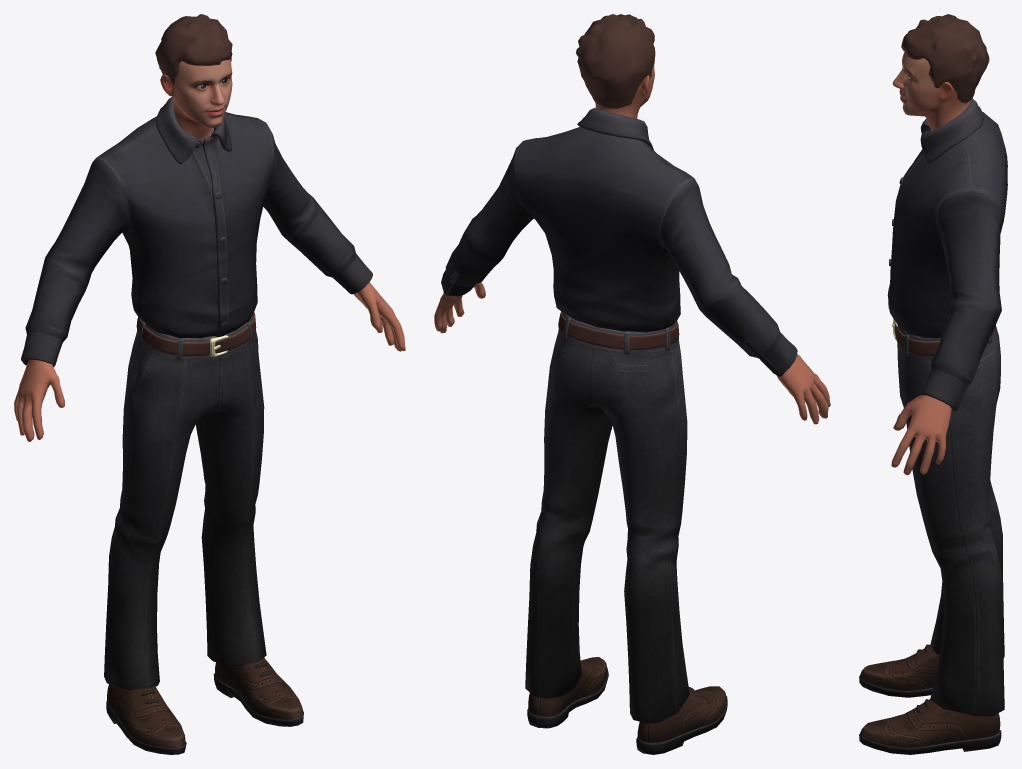
File: AVATAR.gltf
3 renders of one model, left to right at view 1: azimuth 30°, elevation 25°; view 2: azimuth 150°, elevation 25°; view 3: azimuth 270°, elevation 25°, orthographic.
Visible parts, largest first — view 1: Wolf3D_Outfit_Top, Wolf3D_Outfit_Bottom, Wolf3D_Outfit_Footwear, Wolf3D_Body, Wolf3D_Head, Wolf3D_Hair; view 2: Wolf3D_Outfit_Bottom, Wolf3D_Outfit_Top, Wolf3D_Outfit_Footwear, Wolf3D_Hair, Wolf3D_Body, Wolf3D_Head; view 3: Wolf3D_Outfit_Top, Wolf3D_Outfit_Bottom, Wolf3D_Outfit_Footwear, Wolf3D_Hair, Wolf3D_Body, Wolf3D_Head.
Boxes of the visible parts, x1,y1,x2,y2 form: Wolf3D_Outfit_Top: [21, 96, 372, 367]; Wolf3D_Outfit_Bottom: [104, 312, 266, 690]; Wolf3D_Outfit_Footwear: [106, 657, 303, 754]; Wolf3D_Body: [14, 282, 405, 441]; Wolf3D_Head: [160, 59, 232, 143]; Wolf3D_Hair: [155, 14, 232, 84]; Wolf3D_Outfit_Bottom: [525, 311, 689, 723]; Wolf3D_Outfit_Top: [441, 108, 797, 376]; Wolf3D_Outfit_Footwear: [527, 657, 727, 754]; Wolf3D_Hair: [576, 14, 655, 108]; Wolf3D_Body: [434, 282, 830, 424]; Wolf3D_Head: [595, 58, 654, 118]; Wolf3D_Outfit_Top: [887, 98, 1007, 410]; Wolf3D_Outfit_Bottom: [892, 319, 1004, 716]; Wolf3D_Outfit_Footwear: [859, 644, 1001, 754]; Wolf3D_Hair: [901, 14, 989, 103]; Wolf3D_Body: [891, 395, 951, 475]; Wolf3D_Head: [892, 51, 971, 130].
Bounding box in the file's own units: 1.06 × 1.86 × 0.3595.
Materials: 9 (9 with a texture image).
